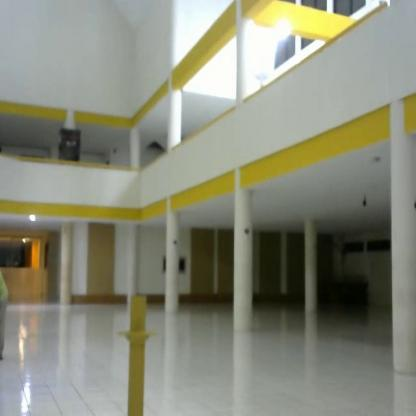pole: (109, 280, 161, 416)
